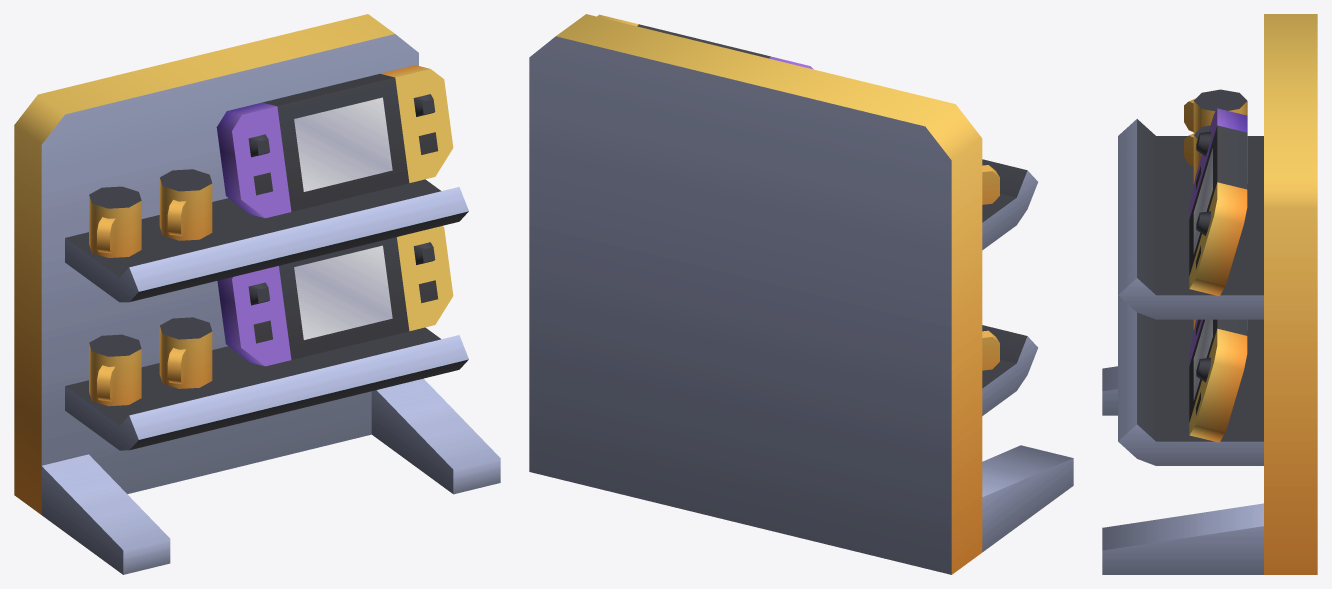
The model's file is arcade.prizes.glb.
The picture shows the model from 3 angles, left to right: view 1: azimuth 30°, elevation 25°; view 2: azimuth 150°, elevation 25°; view 3: azimuth 270°, elevation 25°; orthographic projection. The views are drawn at different scales.
Parts seen in each view (by area): view 1: prizes; view 2: prizes; view 3: prizes.
Boxes of the visible parts, x1,y1,x2,y2 form: prizes: [14, 14, 500, 574]; prizes: [529, 14, 1073, 574]; prizes: [1102, 14, 1317, 574].
Bounding box in the file's own units: 1.99 × 1.99 × 0.993.
Materials: 1 (1 with a texture image).
